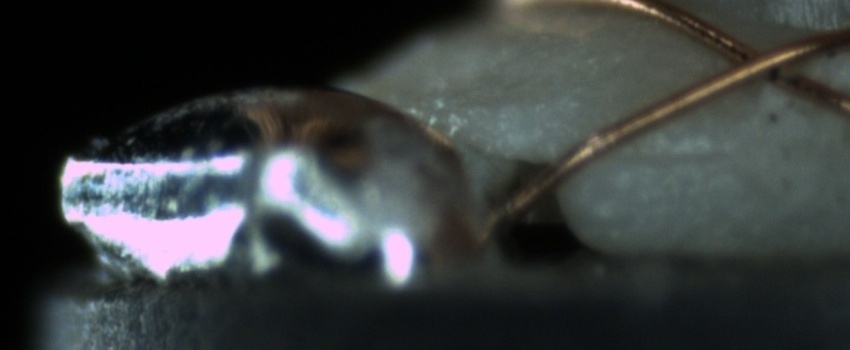CL: (695, 27, 831, 97)
DL: (603, 126, 735, 184)
